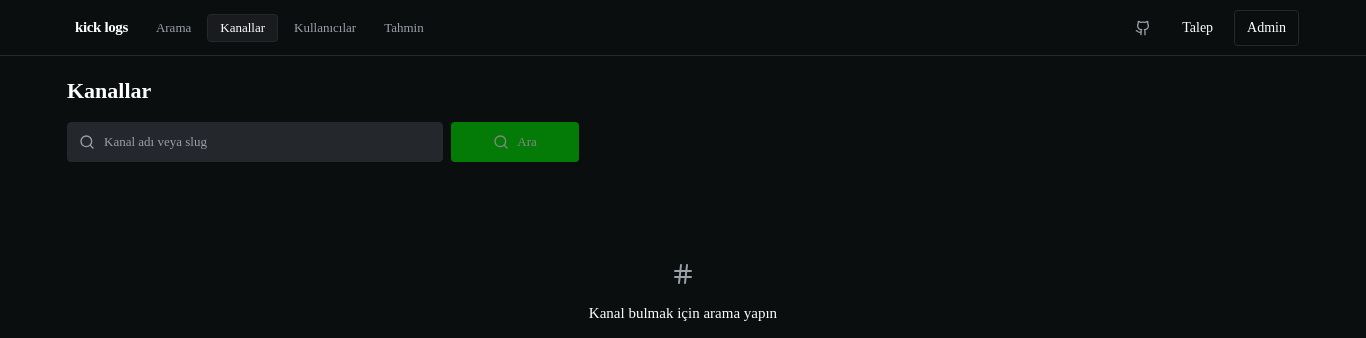
it: channels directory interaction › shows a recoverable first-page error and clears it after resubmit
This screenshot has width=1366, height=338.
In the search field: (255, 142) x1=67 y1=122 x2=443 y2=162, type "alpha"
Then press Enter
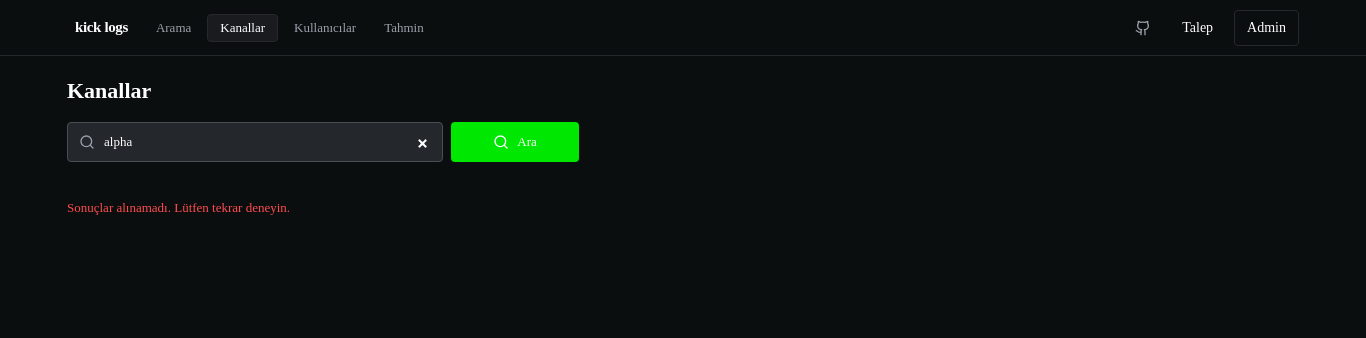
Expected: the message shows "Sonuçlar alınamadı", x1=67 y1=200 x2=290 y2=215
Click the button "Ara": (515, 142) x1=451 y1=122 x2=579 y2=162
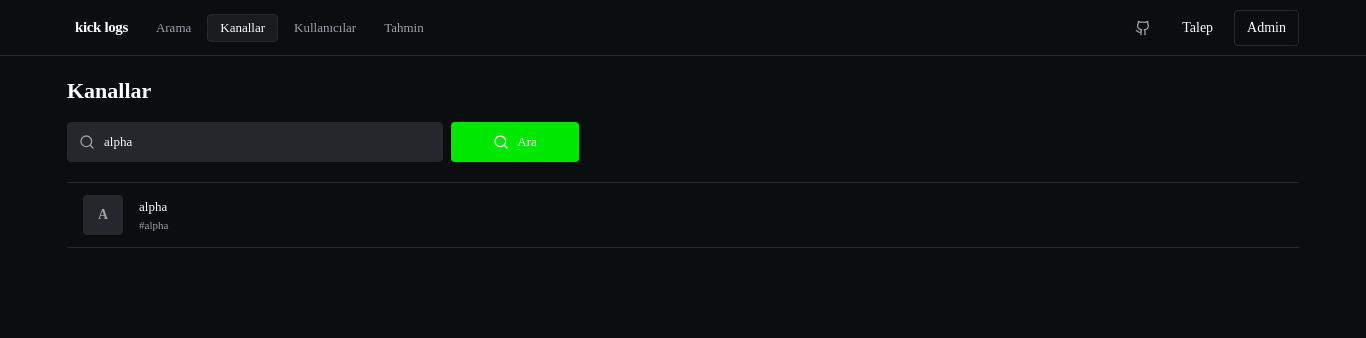
Expected: the link "A alpha #alpha" is shown, x1=83 y1=195 x2=168 y2=235
Expected: the message "Sonuçlar alınamadı. Lütfen tekrar deneyin." is gone
